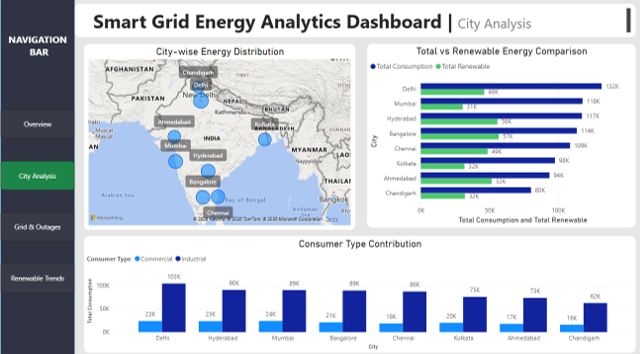

The dashboard page shown, as its layout file describes it:
{"tool":"powerbi","page":{"name":"City Analysis","canvas":[1280,720],"ordinal":1},"visuals":[{"type":"shape","box":[0,0,147.1,720.6],"z":0},{"type":"textbox","box":[147.7,17.2,1112.6,66.5],"z":1000},{"type":"pageNavigator","box":[0,226.9,147.1,364.1],"z":2000},{"type":"map","title":"City-wise Energy Distribution","fields":{"Category":["smart_grid_energy_dataset.City"],"Size":["Measures_.Total Consumption"]},"box":[165.6,96.9,538.7,369.3],"z":3000},{"type":"clusteredBarChart","title":"Total vs Renewable Energy Comparison","fields":{"Category":["smart_grid_energy_dataset.City"],"Y":["Measures_.Total Consumption","Measures_.Total Renewable"]},"box":[727.6,96.9,532.5,364.4],"z":4000},{"type":"textbox","box":[0,70.2,147.7,76.3],"z":5000},{"type":"clusteredColumnChart","title":"Consumer Type Contribution","fields":{"Category":["smart_grid_energy_dataset.City"],"Y":["Measures_.Total Consumption"],"Series":["smart_grid_energy_dataset.Consumer Type"]},"box":[165.6,478.5,1094.5,231.9],"z":6000}]}

Visuals, with their boxes on the page's 1280x720 design canvas (x1, y1, x2, y2). These are canvas units, not pixel positions in the 640x354 screenshot, which may show the page scaled, cropped or inside an application window:
shape: detection(0, 0, 147, 721)
textbox: detection(148, 17, 1260, 84)
pageNavigator: detection(0, 227, 147, 591)
"City-wise Energy Distribution" map: detection(166, 97, 704, 466)
"Total vs Renewable Energy Comparison" clusteredBarChart: detection(728, 97, 1260, 461)
textbox: detection(0, 70, 148, 146)
"Consumer Type Contribution" clusteredColumnChart: detection(166, 478, 1260, 710)
